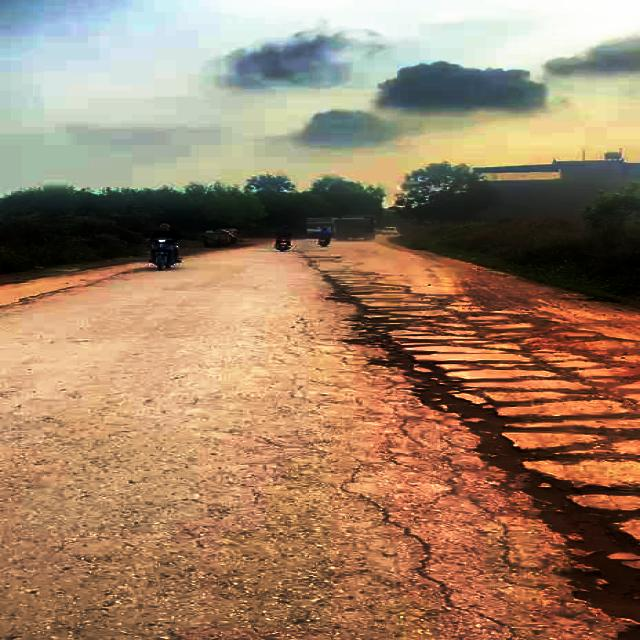pothole: (496, 472, 640, 626), (404, 384, 571, 482), (356, 330, 472, 398), (331, 290, 407, 338)
